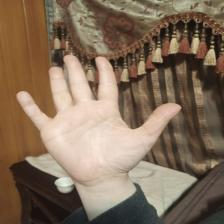five: (14, 56, 184, 186)
